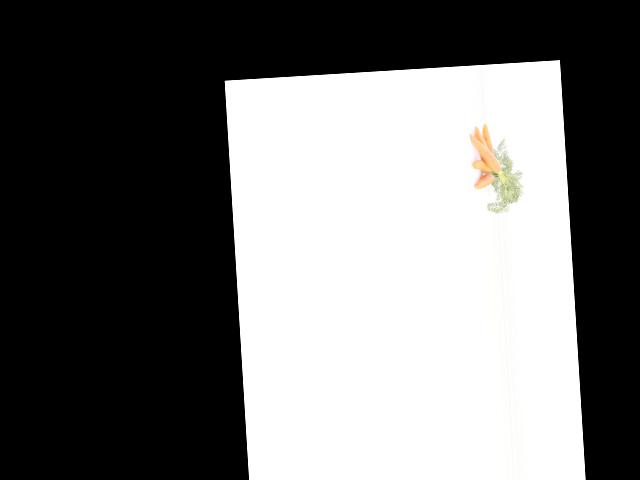carrot: (467, 132, 505, 180)
